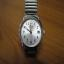watch: (17, 16, 46, 49)
